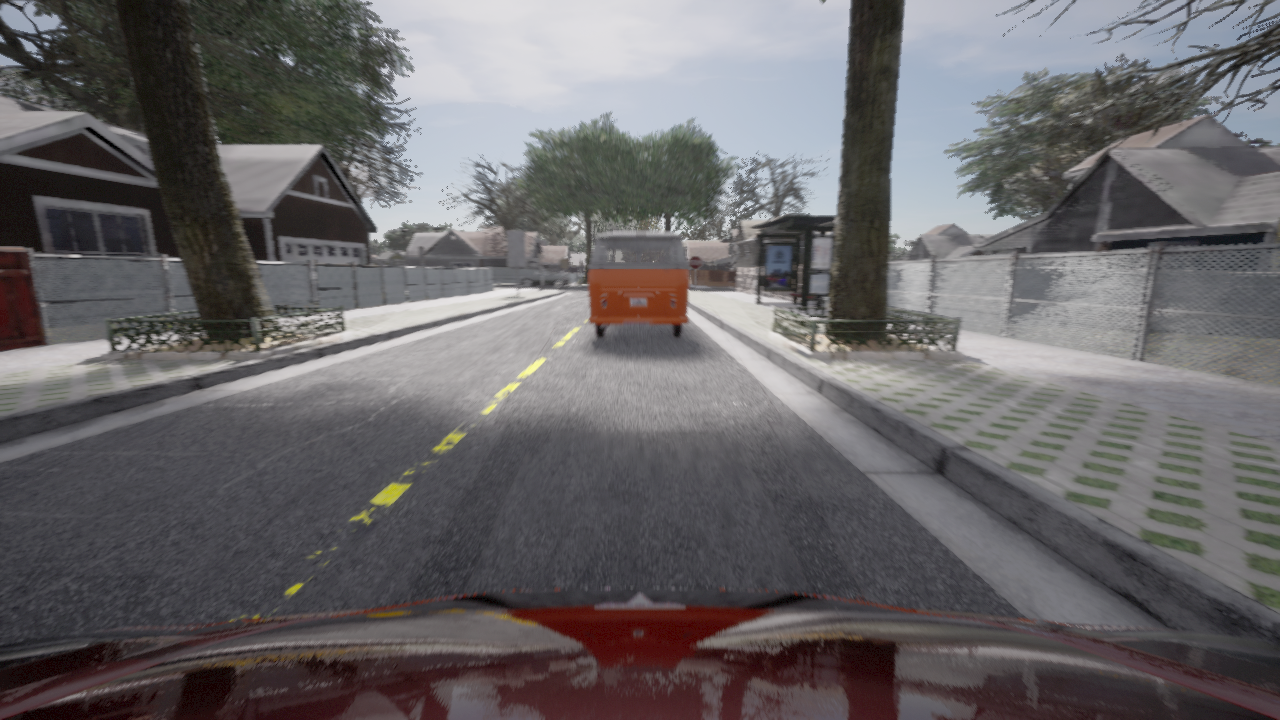cyclist: (0, 588, 1279, 719), (589, 231, 688, 337), (520, 270, 569, 288)
